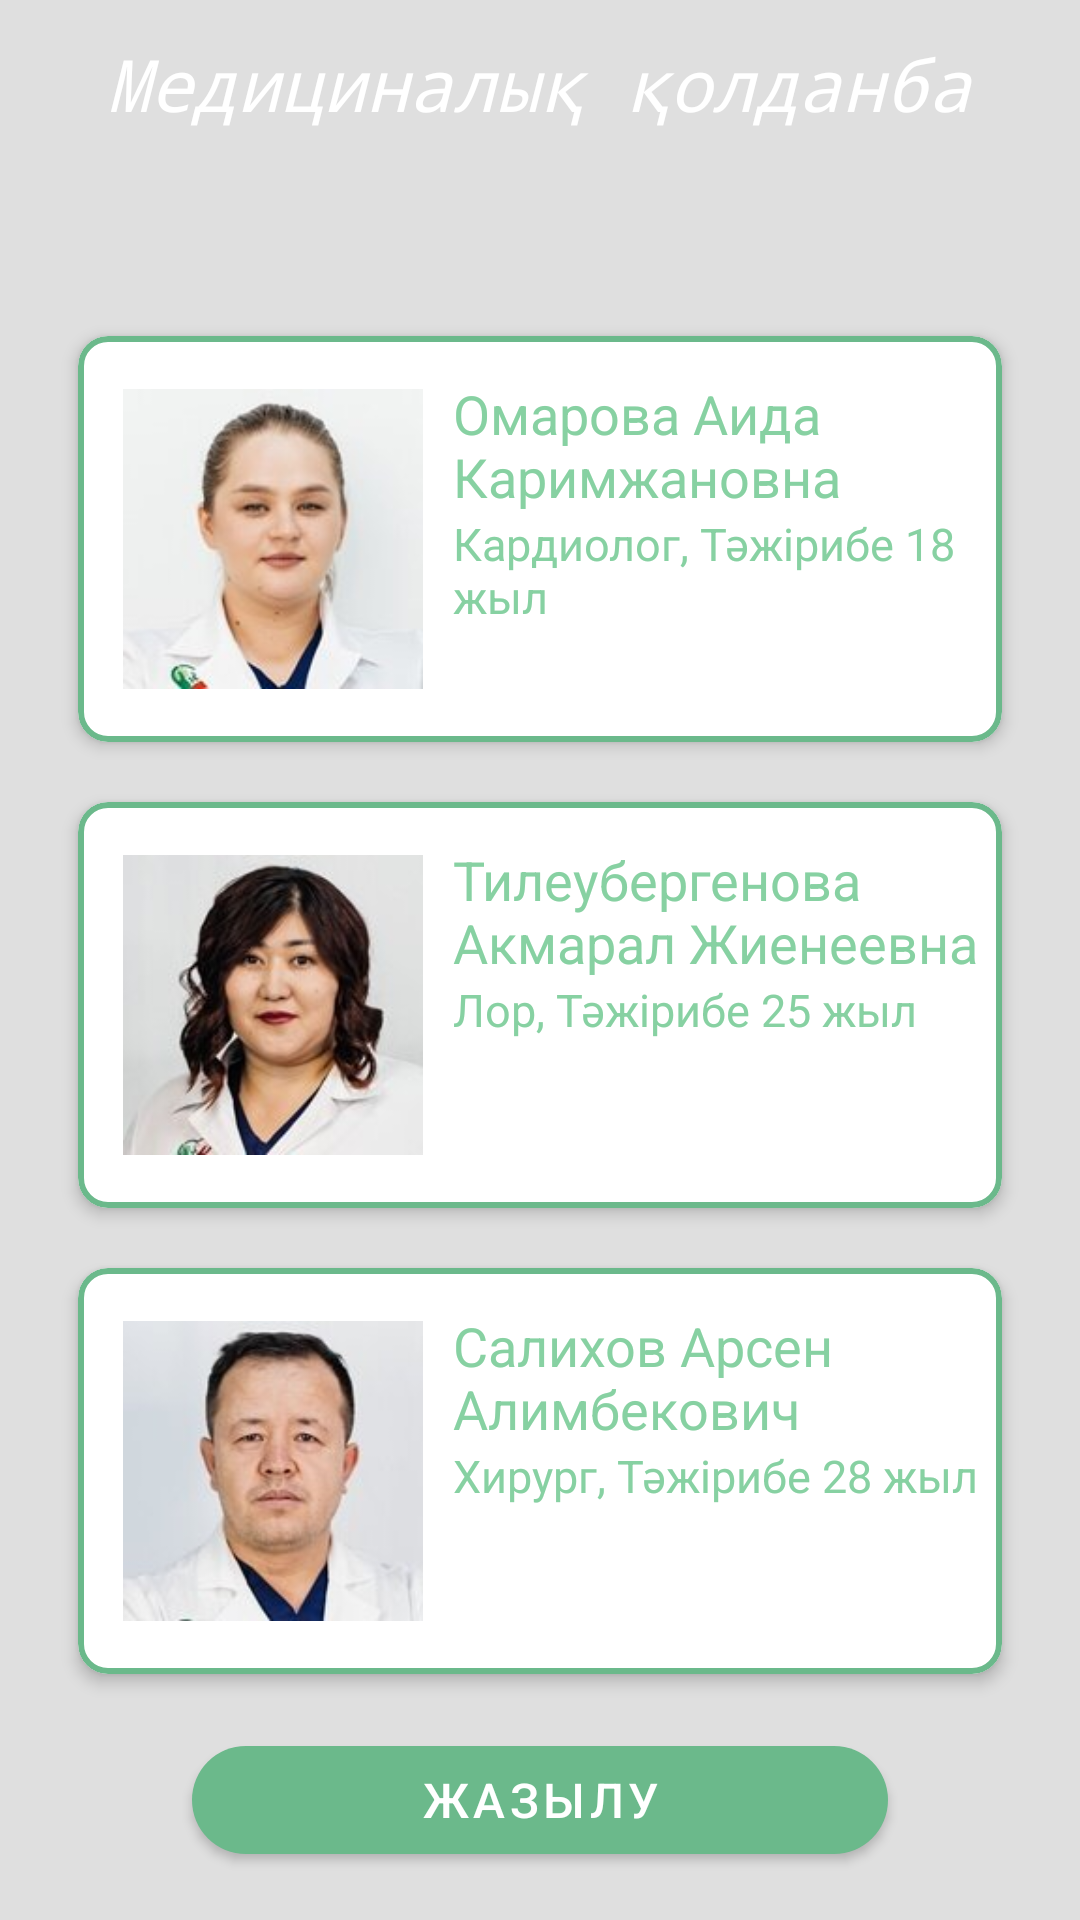

Named icons in this screenshot (1080w x 1920h) and their bounding boxes, detection(x1, y1, x2, y2):
doc: detection(123, 402, 423, 689), detection(123, 855, 423, 1155), detection(123, 1321, 423, 1621)
